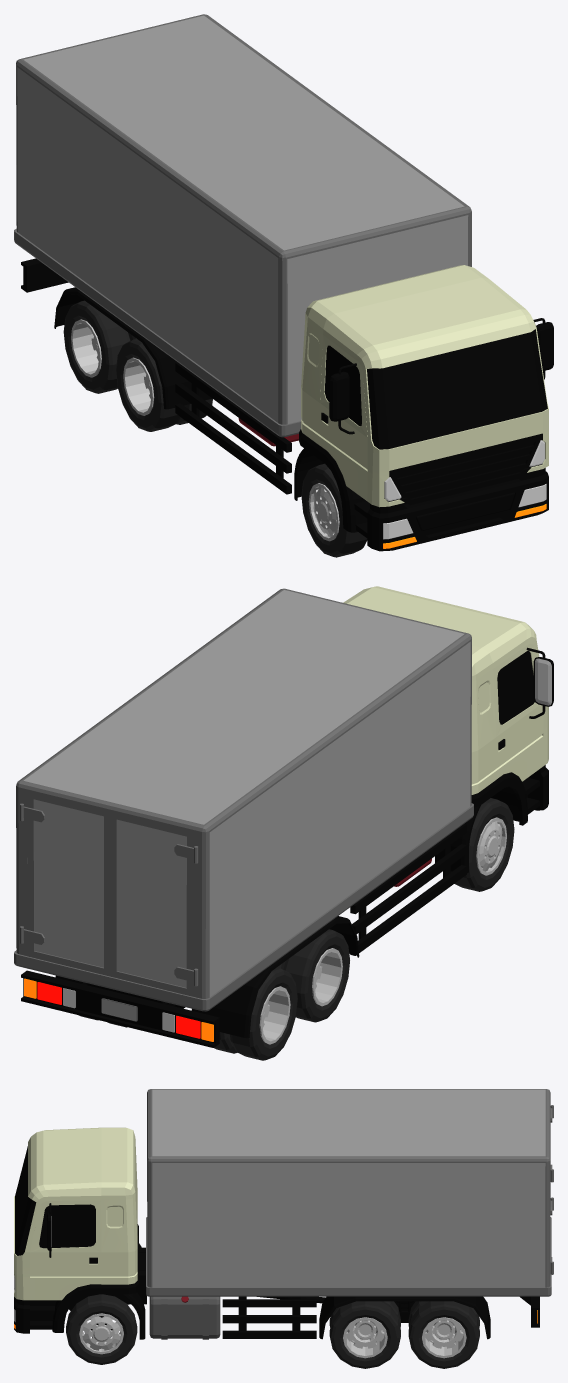
File: Truck.fbx
The picture shows the model from 3 angles, top to bottom: view 1: azimuth 30°, elevation 25°; view 2: azimuth 150°, elevation 25°; view 3: azimuth 270°, elevation 25°; orthographic projection. The views are drawn at different scales.
Visible parts, largest first — view 1: Box, Cab, Bumper/Interior, Chassis, Door, Wheels.006, Wheels.003, Wheels.002; view 2: Box, Chassis, Cab, Door, Wheels.003, Wheels.006, Wheels.002, Bumper/Interior; view 3: Box, Cab, Chassis, Door, Wheels.005, Wheels.004, Wheels.001, Bumper/Interior.
Boxes of the visible parts, x1,y1,x2,y2 form: Box: (14,14,471,437); Cab: (301,265,548,507); Bumper/Interior: (294,429,548,551); Chassis: (21,258,298,494); Door: (320,318,553,500); Wheels.006: (63,300,136,393); Wheels.003: (116,339,212,431); Wheels.002: (301,463,367,557); Box: (14,588,473,1011); Chassis: (21,824,466,1047); Cab: (343,586,548,794); Door: (493,643,553,781); Wheels.003: (277,929,349,1022); Wheels.006: (214,967,297,1060); Wheels.002: (450,798,514,891); Bumper/Interior: (435,765,548,873); Box: (146,1089,553,1296); Cab: (14,1127,137,1300); Chassis: (69,1247,539,1339); Door: (30,1200,101,1300); Wheels.005: (408,1301,479,1368); Wheels.004: (329,1301,400,1368); Wheels.001: (66,1294,137,1364); Bumper/Interior: (14,1224,145,1339).
Bounding box in the file's own units: 191 × 230 × 529.
